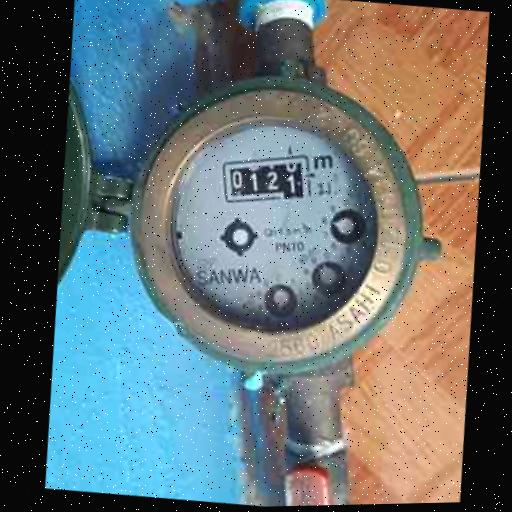0: (226, 166, 251, 198)
1: (277, 158, 308, 200), (243, 163, 267, 197)
2: (259, 161, 286, 196)
border_water_meter_number: (217, 145, 317, 212)
